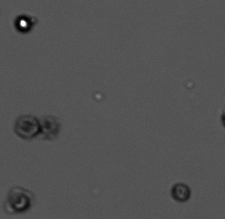Dead Cell: (15, 115, 39, 140), (8, 189, 32, 213), (39, 113, 59, 137), (171, 182, 191, 202)
Living Cell: (13, 14, 33, 32)
